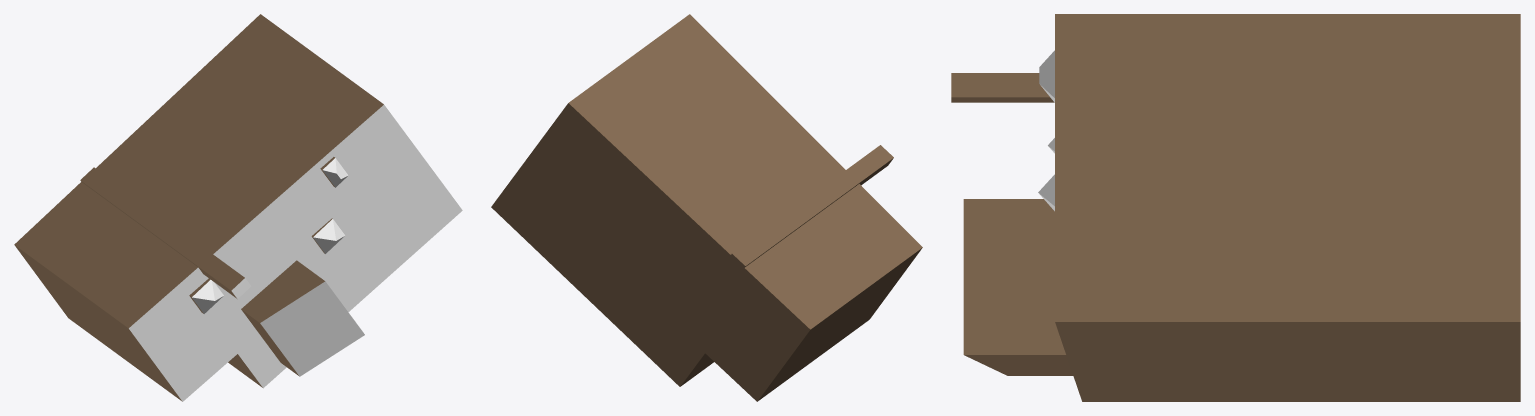
3 views of the same model, side by side, from view 1: azimuth 30°, elevation 25°; view 2: azimuth 150°, elevation 25°; view 3: azimuth 270°, elevation 25° (orthographic). The views are drawn at different scales.
Visible parts, largest first — view 1: City_2316956; view 2: City_2316956; view 3: City_2316956.
Part boxes in pixels (bbox=[...]): City_2316956: bbox=[14, 14, 462, 401]; City_2316956: bbox=[491, 14, 922, 401]; City_2316956: bbox=[951, 14, 1520, 401].
Bounding box in the file's own units: 1714 × 1318 × 1381.
